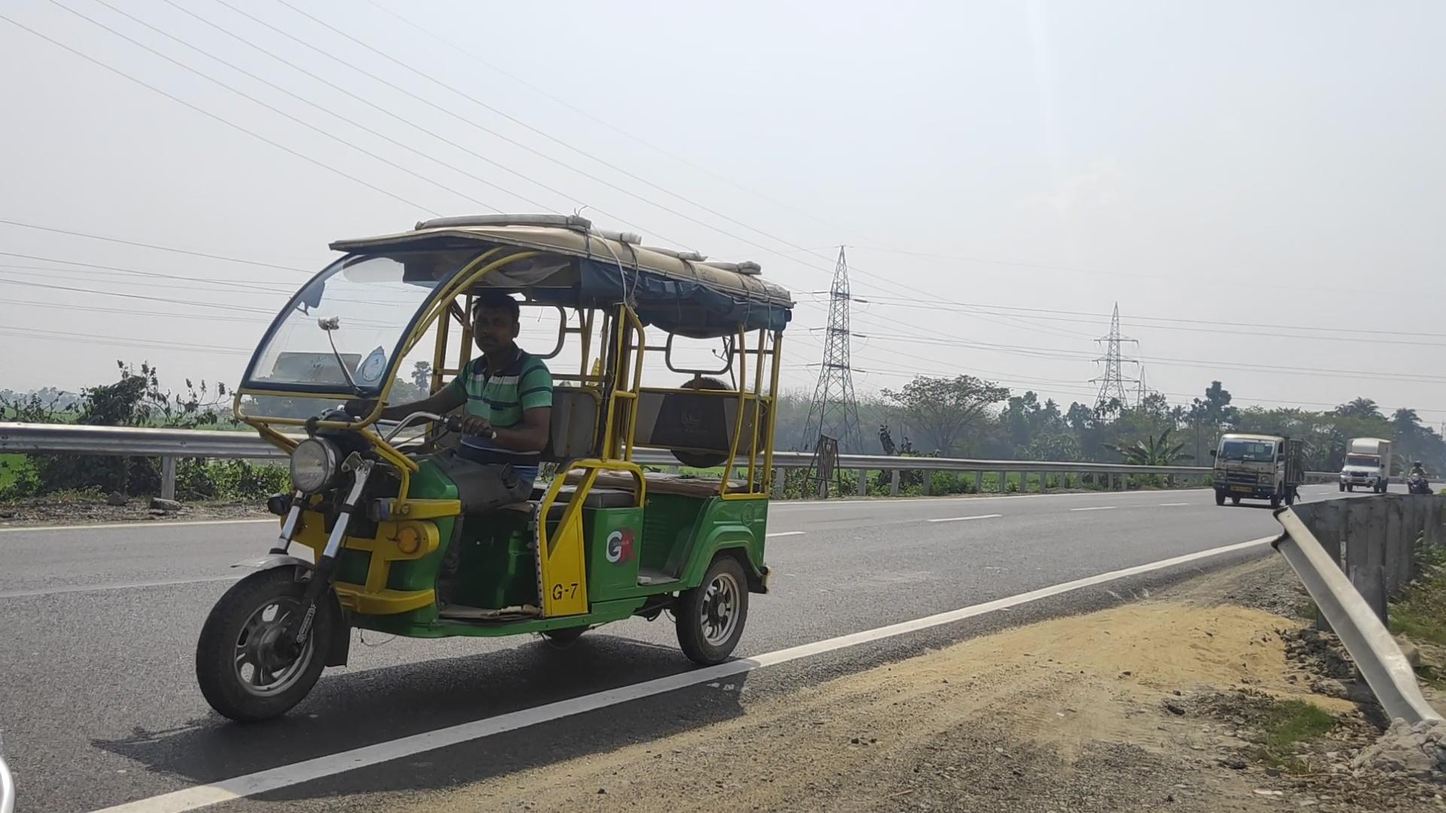Auto: (194, 212, 797, 726)
bike: (1408, 460, 1431, 500)
van: (1210, 431, 1303, 508), (1339, 437, 1392, 494)
